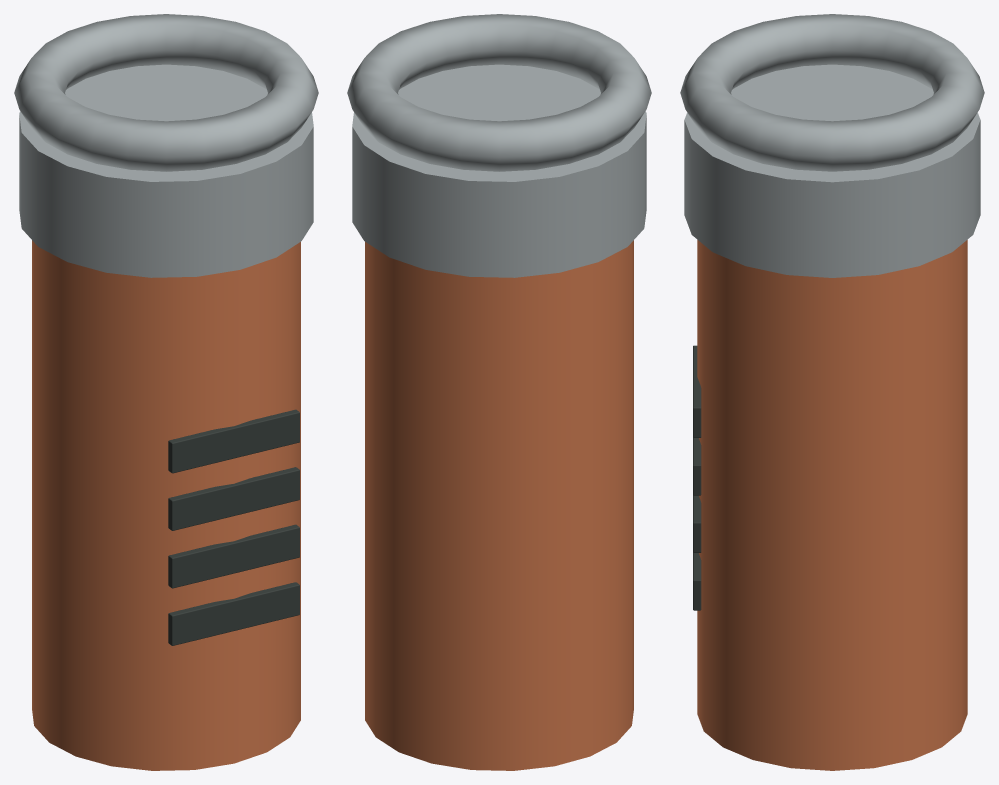
Rendered from wilderness-survival-camp-storm-match-capsule-143d7ee8__21961.glb.
The picture shows the model from 3 angles, left to right: view 1: azimuth 30°, elevation 25°; view 2: azimuth 150°, elevation 25°; view 3: azimuth 270°, elevation 25°; orthographic projection.
Visible parts, largest first — view 1: storm-match-capsule, cap/metal; view 2: storm-match-capsule, cap/metal; view 3: storm-match-capsule, cap/metal.
Boxes of the visible parts, x1,y1,x2,y2 form: storm-match-capsule: [14, 14, 318, 770]; cap/metal: [19, 64, 313, 277]; storm-match-capsule: [347, 14, 651, 770]; cap/metal: [352, 64, 646, 277]; storm-match-capsule: [680, 14, 984, 770]; cap/metal: [684, 64, 980, 277].
Size of the model in its own units: 0.072 by 0.1672 by 0.072.
